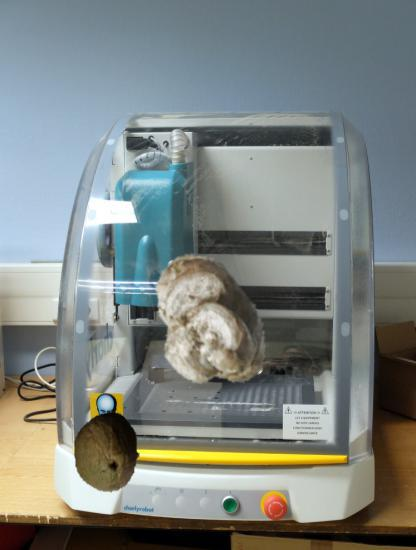Ginger: (133, 253, 278, 398)
Papaya: (66, 411, 148, 493)
